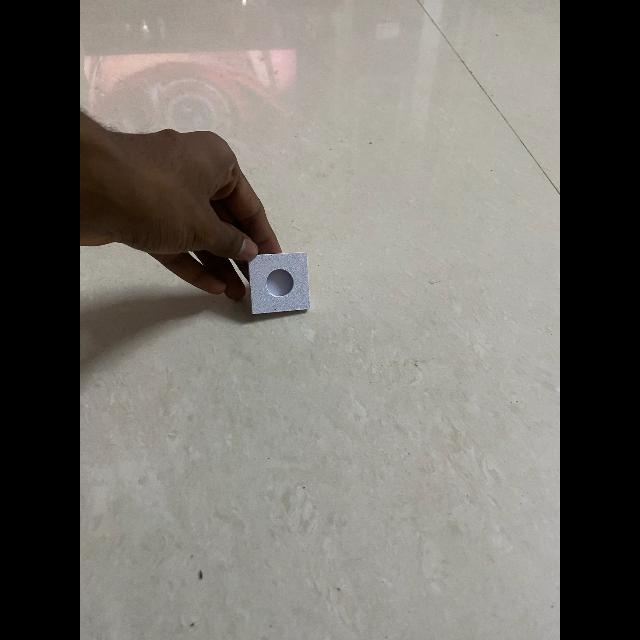RASPBERY PI CAM ENCLOSURE: (248, 252, 310, 314)
